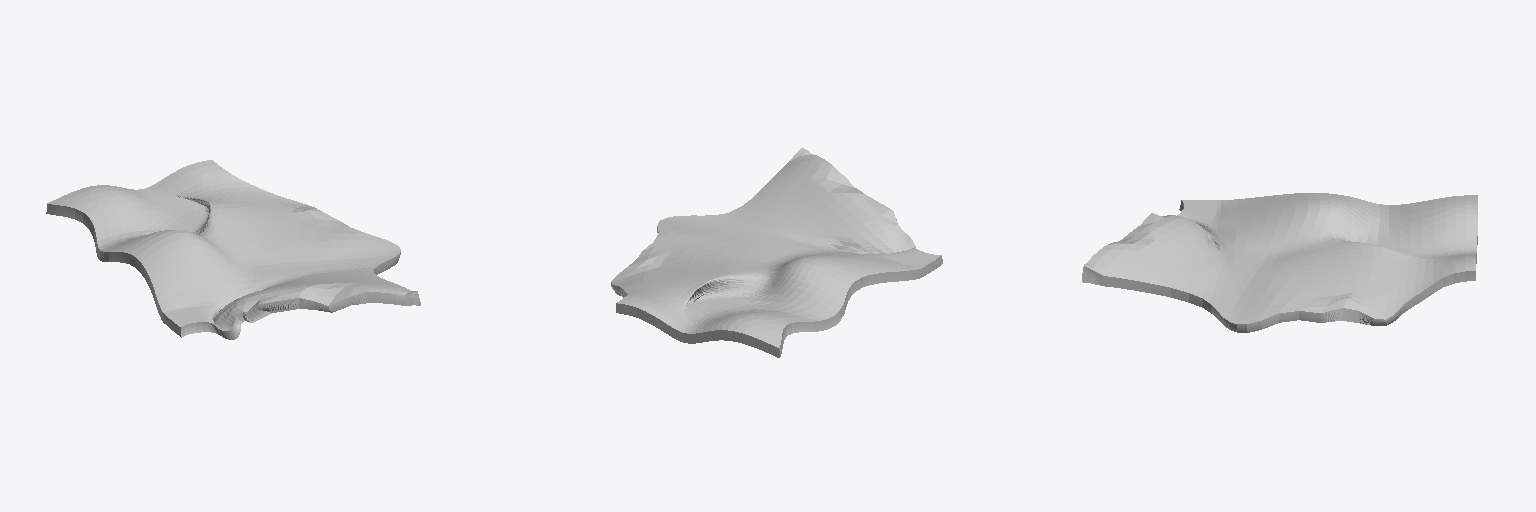
File: tissuePaper.obj
3 renders of one model, left to right at view 1: azimuth 30°, elevation 25°; view 2: azimuth 150°, elevation 25°; view 3: azimuth 270°, elevation 25°, orthographic.
Parts seen in each view (by area): view 1: Cube; view 2: Cube; view 3: Cube.
Part boxes in pixels (bbox=[...]): Cube: bbox=[46, 160, 420, 339]; Cube: bbox=[611, 148, 942, 357]; Cube: bbox=[1082, 193, 1477, 332].
Bounding box in the file's own units: 3.24 × 0.5476 × 4.45.